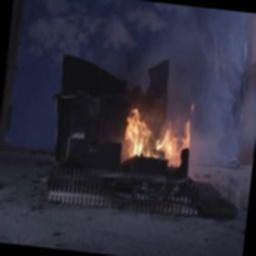fire: (109, 86, 207, 177)
